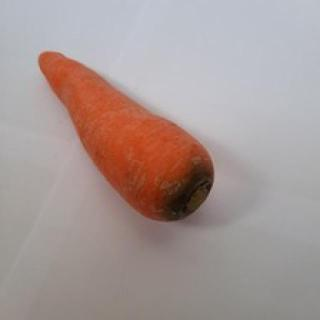carrot: (36, 49, 214, 223)
